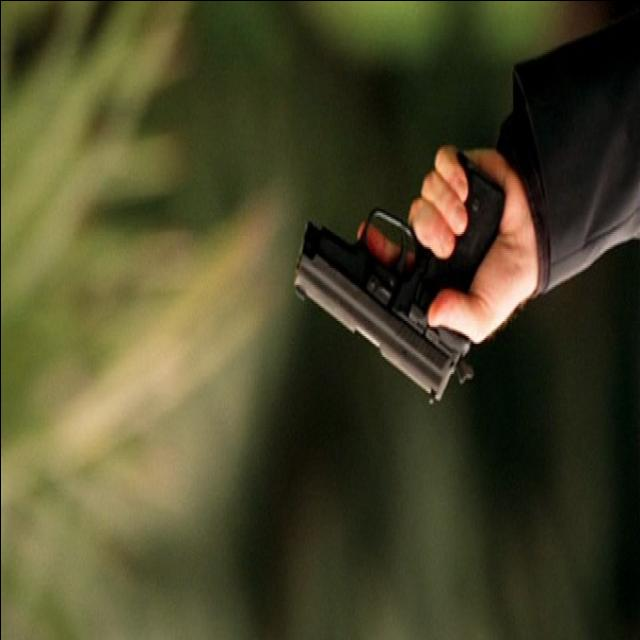weapons: (284, 144, 516, 402)
